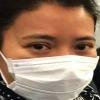mask: (2, 54, 100, 100)
